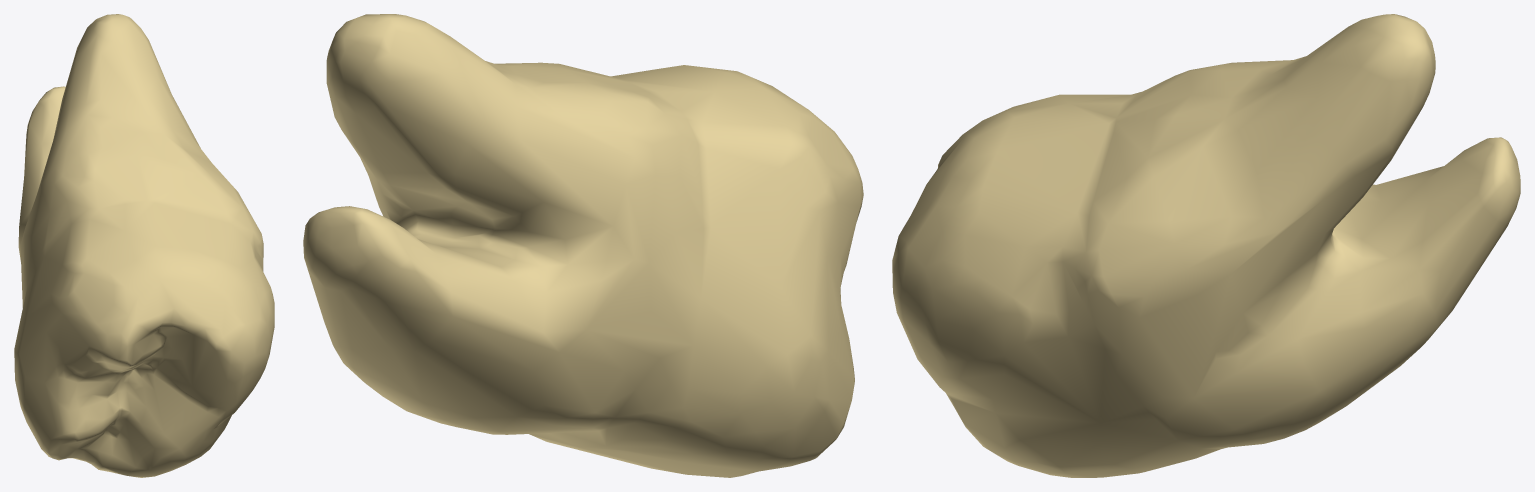
3 renders of one model, left to right at view 1: azimuth 30°, elevation 25°; view 2: azimuth 150°, elevation 25°; view 3: azimuth 270°, elevation 25°, orthographic. The views are drawn at different scales.
Visible parts, largest first — view 1: 左侧下颌第二磨牙; view 2: 左侧下颌第二磨牙; view 3: 左侧下颌第二磨牙.
Boxes of the visible parts, box(x1,y1,x2,y2) form: 左侧下颌第二磨牙: box(14, 14, 274, 477); 左侧下颌第二磨牙: box(303, 14, 863, 477); 左侧下颌第二磨牙: box(892, 14, 1520, 477).
Bounding box in the file's own units: 0.0174 × 0.0238 × 0.0269.
